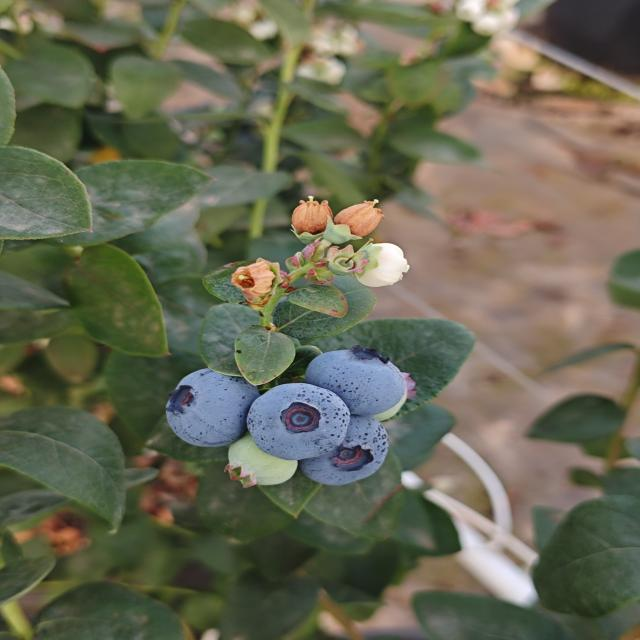ripe: (244, 381, 352, 462), (162, 366, 260, 449), (302, 345, 409, 418), (312, 416, 386, 478)
